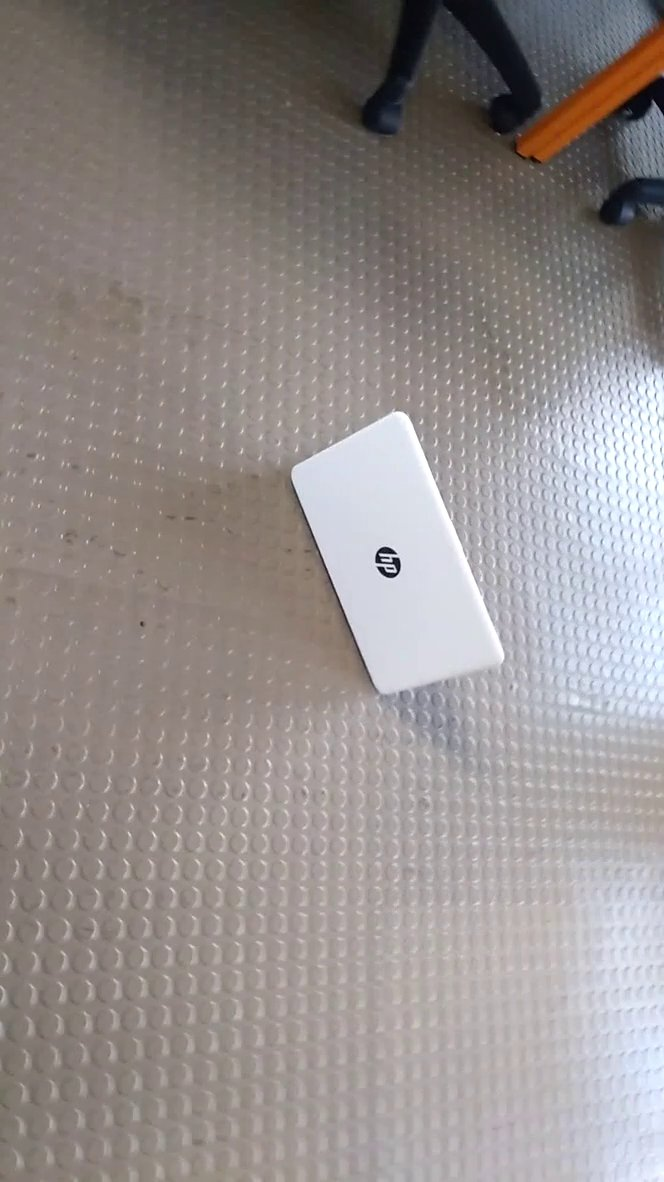laptop: (286, 400, 509, 705)
